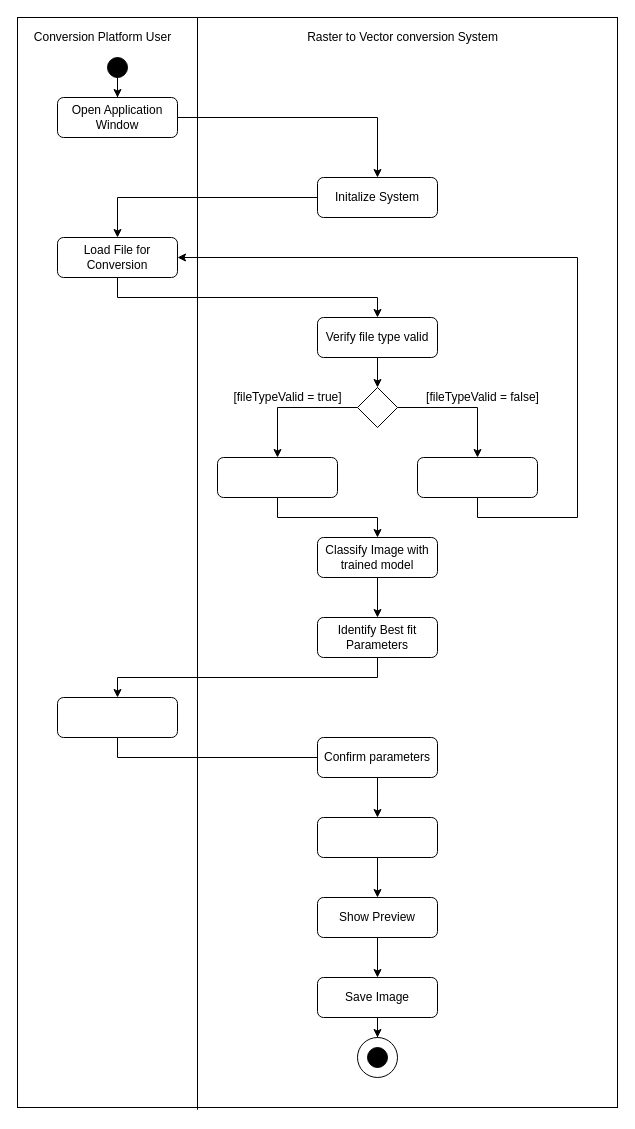
Some shapes in this 635 by 1129 pixel diagram are drawn without their labels. The centre of each missing label's shape, as x and y in pixels:
Convert Image: pixel 377 837
Edit Parameters if necessary: pixel 117 717
Show Invalid File Type Message: pixel 477 477
Show Valid File Type Message: pixel 277 477
